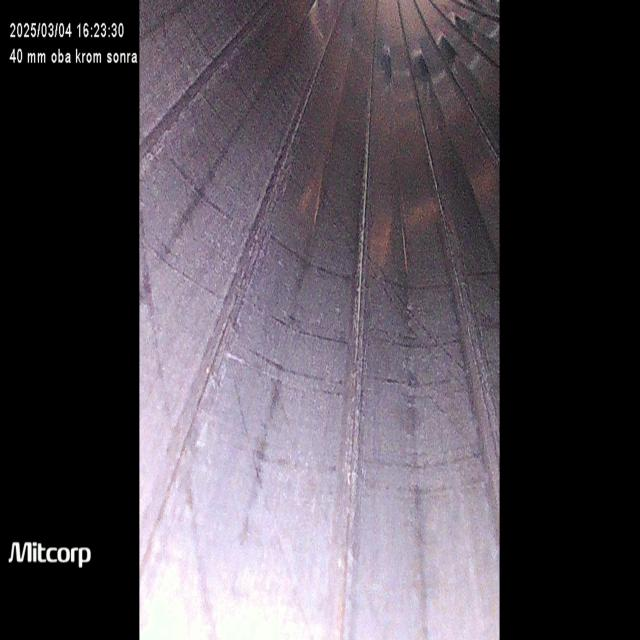hata_8.1: (138, 136, 501, 542)
